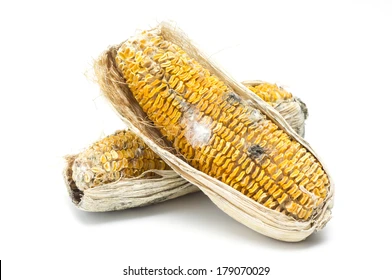rotten corn: (104, 32, 349, 244)
